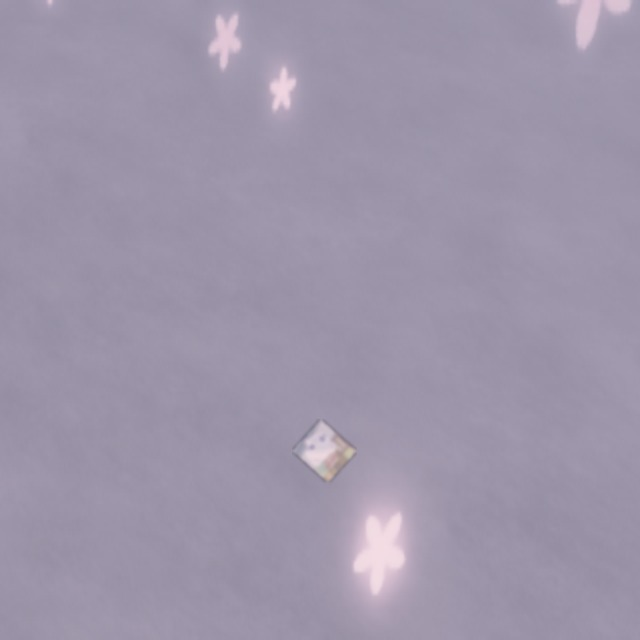urso_branco: (292, 419, 357, 483)
